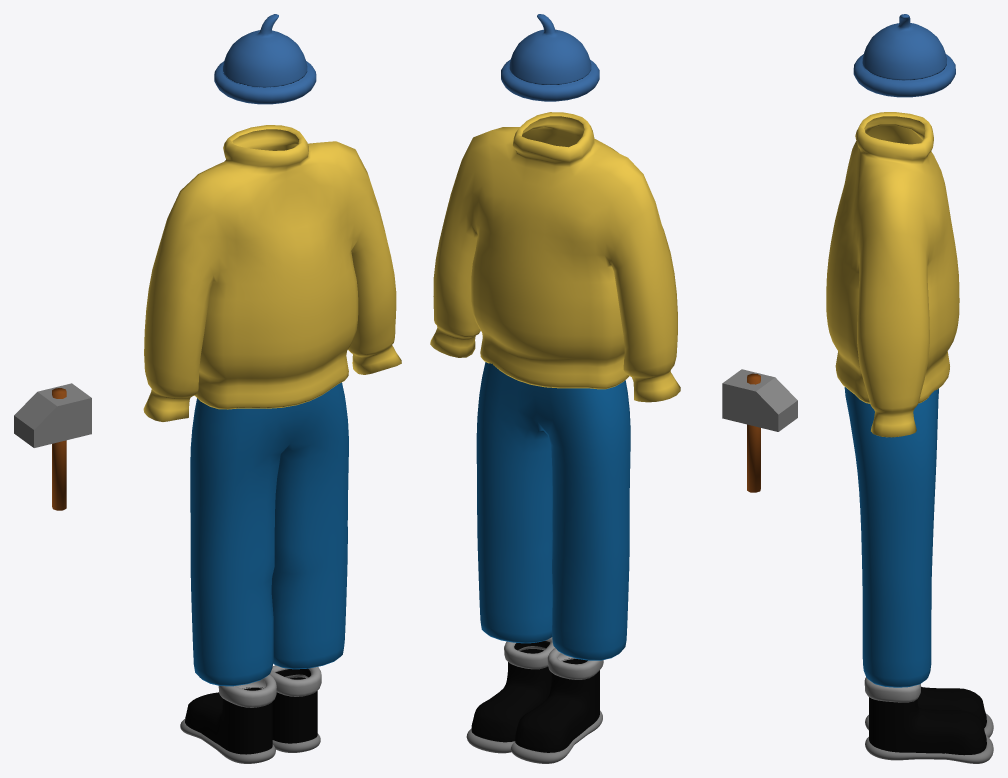
File: tania_clothes.fbx
The picture shows the model from 3 angles, left to right: view 1: azimuth 30°, elevation 25°; view 2: azimuth 150°, elevation 25°; view 3: azimuth 270°, elevation 25°; orthographic projection. The views are drawn at different scales.
Parts seen in each view (by area): view 1: Sweater, pants, shoes, Circle, hammer; view 2: Sweater, pants, shoes, Circle, hammer; view 3: Sweater, pants, shoes, Circle.
Boxes of the visible parts, x1,y1,x2,y2 form: Sweater: (143,125,401,421); pants: (190,382,348,686); shoes: (180,665,321,763); Circle: (214,14,316,104); hammer: (14,383,91,510); Sweater: (430,112,680,402); pants: (476,362,630,660); shoes: (466,637,603,763); Circle: (501,14,599,101); hammer: (722,369,797,492); Sweater: (826,112,959,437); pants: (844,387,938,687); shoes: (864,677,993,763); Circle: (853,14,955,97).
Bounding box in the file's own units: 115 × 219 × 45.29.
